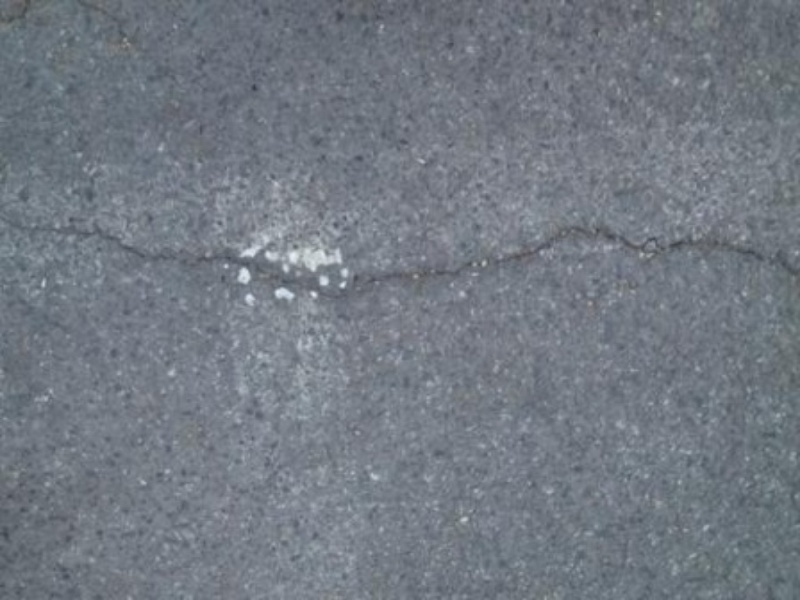crack: (1, 191, 793, 344)
